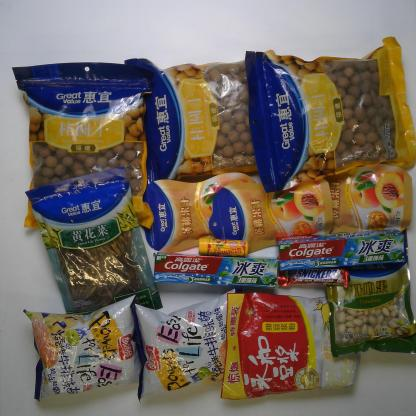Candy: (191, 230, 256, 260)
Chocolate: (269, 262, 352, 292)
Dried Food: (241, 33, 416, 196), (8, 54, 160, 233), (25, 166, 168, 318), (119, 53, 268, 178)
Dried Fruit: (205, 176, 339, 252), (139, 170, 256, 253), (322, 258, 414, 359), (316, 158, 414, 236)
Instant Drink: (216, 287, 363, 402)
Personal Hygiene: (275, 229, 413, 273), (152, 249, 282, 292)
Puffed Food: (22, 294, 153, 405), (126, 284, 240, 403)
